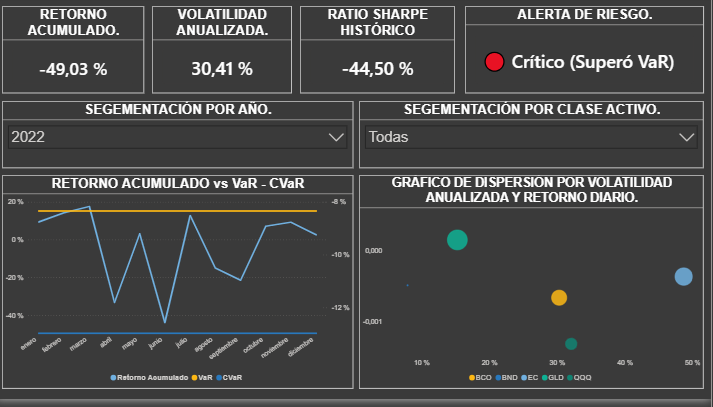

This screenshot's page, from the dashboard's own definition file:
{"tool":"powerbi","page":{"name":"DIAGNÓSTICO Y CALIDAD DE DATOS.","canvas":[1280,720],"ordinal":1},"visuals":[{"type":"cardVisual","title":"RETORNO ACUMULADO.","fields":{"Data":["DAX_MEDIDAS.Retorno Acumulado"]},"box":[13.4,17.2,253.7,156.4],"z":0},{"type":"slicer","title":"SEGEMENTACIÓN POR AÑO.","fields":{"Values":["Dim_Calendario.Date.Variación.Jerarquía de fechas.Año"]},"box":[13.4,186.9,627.6,120.2],"z":1000},{"type":"cardVisual","title":"VOLATILIDAD ANUALIZADA.","fields":{"Data":["DAX_MEDIDAS.Volatilidad Anualizada"]},"box":[280.4,17.2,249.9,156.4],"z":2000},{"type":"cardVisual","title":"RATIO SHARPE HISTÓRICO","fields":{"Data":["DAX_MEDIDAS.Sharpe Ratio Histórico"]},"box":[545.6,17.2,276.6,156.4],"z":3000},{"type":"slicer","title":"SEGEMENTACIÓN POR CLASE ACTIVO.","fields":{"Values":["Dim_Activos.Clase"]},"box":[650.5,186.9,616.2,120.2],"z":4000},{"type":"cardVisual","title":"ALERTA DE RIESGO.","fields":{"Data":["DAX_MEDIDAS.Alerta de Riesgo"]},"box":[839.3,17.2,427.3,156.4],"z":5000},{"type":"lineChart","title":"RETORNO ACUMULADO vs VaR - CVaR","fields":{"Y":["DAX_MEDIDAS.Retorno Acumulado"],"Category":["Dim_Calendario.Date.Variación.Jerarquía de fechas.Mes"],"Y2":["DAX_MEDIDAS.VaR_Valor","DAX_MEDIDAS.CVaR_Valor"]},"box":[13.4,320.5,627.6,381.5],"z":6000},{"type":"scatterChart","title":"GRÁFICO DE DISPERSIÓN POR VOLATILIDAD ANUALIZADA Y RETORNO DIARIO.","fields":{"X":["DAX_MEDIDAS.Volatilidad Anualizada"],"Y":["DAX_MEDIDAS.Retorno Diario"],"Series":["Dim_Activos.Ticker"],"Category":["Dim_Activos.Ticker"],"Size":["DAX_MEDIDAS.Sharpe Ratio Histórico"]},"box":[650.5,320.5,616.2,381.5],"z":7000}]}

Visuals, with their boxes in screenshot pixels (x1, y1, x2, y2), scaled from the page's 1280x720 canvas onto the 713x407 screenshot:
"RETORNO ACUMULADO." cardVisual: BBox(7, 10, 149, 98)
"SEGEMENTACIÓN POR AÑO." slicer: BBox(7, 106, 357, 174)
"VOLATILIDAD ANUALIZADA." cardVisual: BBox(156, 10, 295, 98)
"RATIO SHARPE HISTÓRICO" cardVisual: BBox(304, 10, 458, 98)
"SEGEMENTACIÓN POR CLASE ACTIVO." slicer: BBox(362, 106, 706, 174)
"ALERTA DE RIESGO." cardVisual: BBox(468, 10, 706, 98)
"RETORNO ACUMULADO vs VaR - CVaR" lineChart: BBox(7, 181, 357, 397)
"GRÁFICO DE DISPERSIÓN POR VOLATILIDAD ANUALIZADA Y RETORNO DIARIO." scatterChart: BBox(362, 181, 706, 397)
